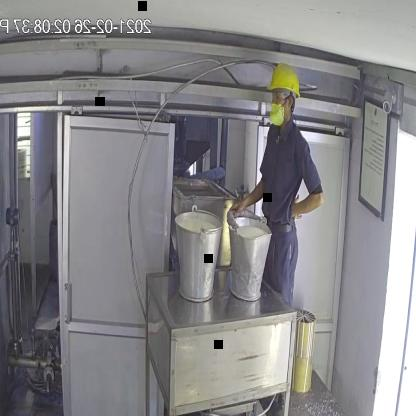helmet: (262, 54, 304, 103)
